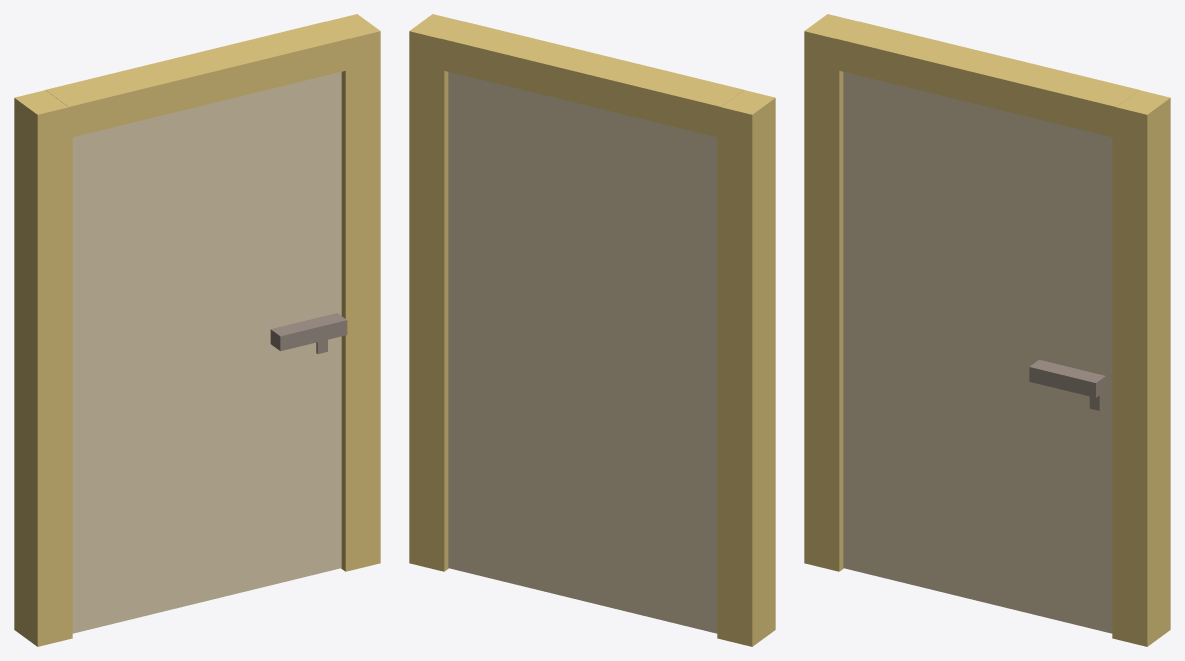
File: kapı 1.1.3.fbx
3 views of the same model, side by side, from view 1: azimuth 30°, elevation 25°; view 2: azimuth 150°, elevation 25°; view 3: azimuth 330°, elevation 25° (orthographic).
Visible parts, largest first — view 1: pCube19; view 2: pCube19; view 3: pCube19.
Part boxes in pixels (<box>): pCube19: <box>14,14,380,646</box>; pCube19: <box>409,14,775,646</box>; pCube19: <box>804,14,1170,646</box>.
Size of the model in its own units: 909 by 1348 by 148.
